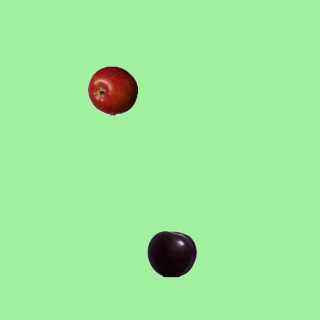Apple Braeburn: (87, 65, 137, 115)
Cherry Wax Black: (146, 228, 196, 278)
